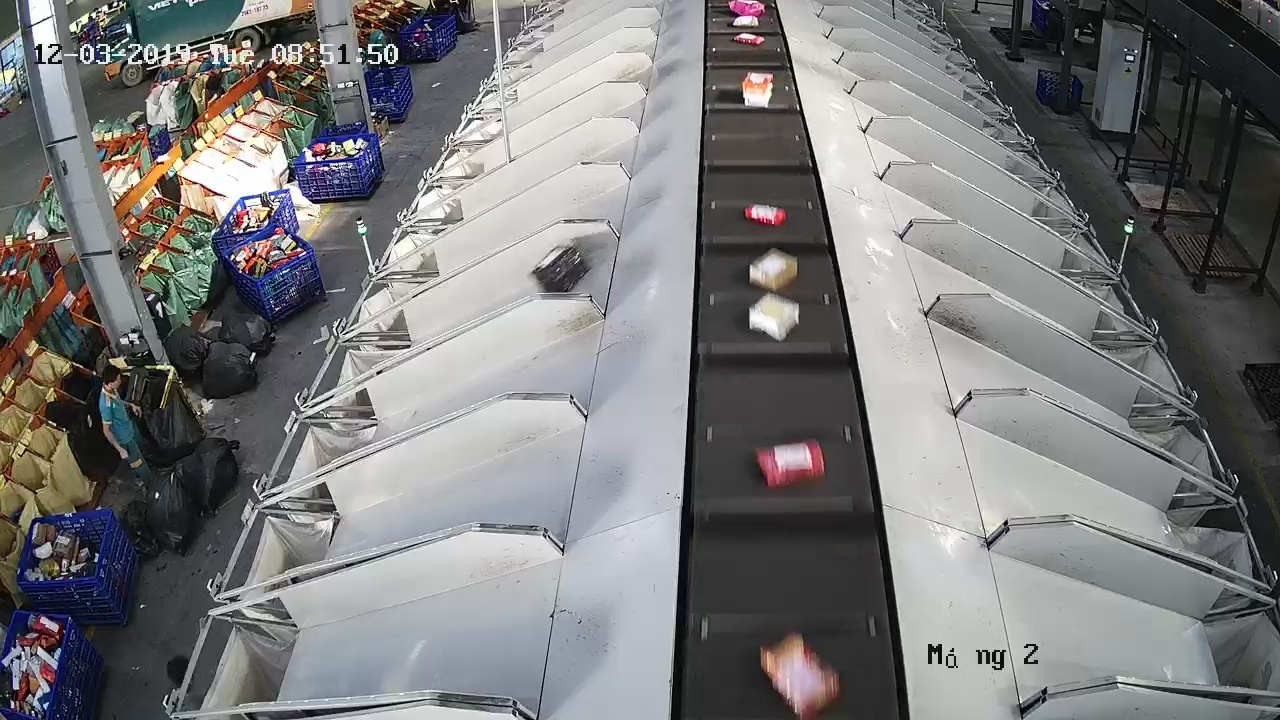parcel: (754, 435, 827, 490), (530, 243, 590, 292), (746, 291, 801, 343), (748, 247, 799, 292), (743, 201, 788, 228)
